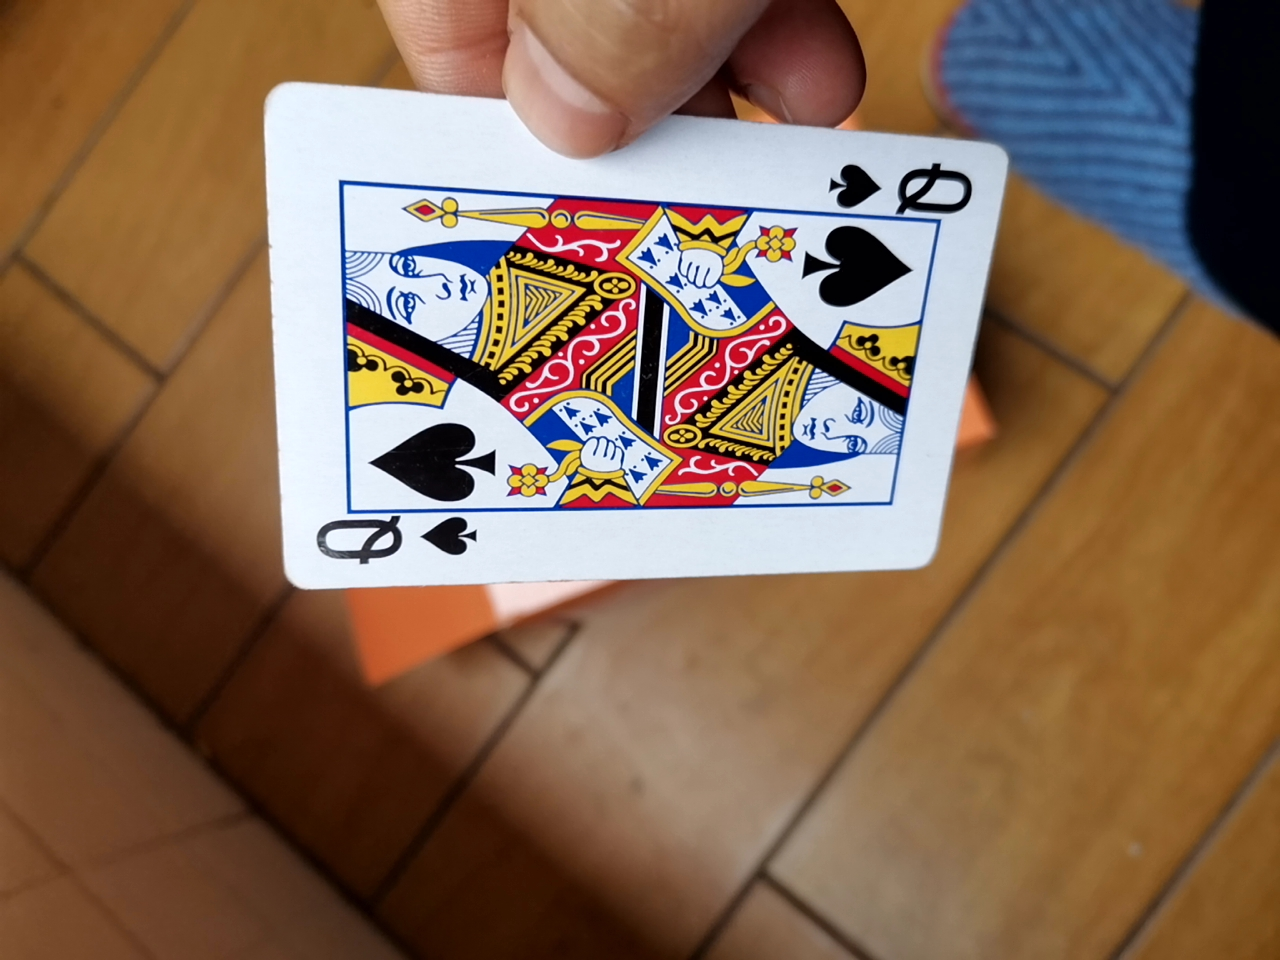ht q: (235, 100, 1000, 620)
